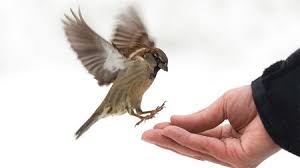hsparrow: (52, 1, 170, 135)
